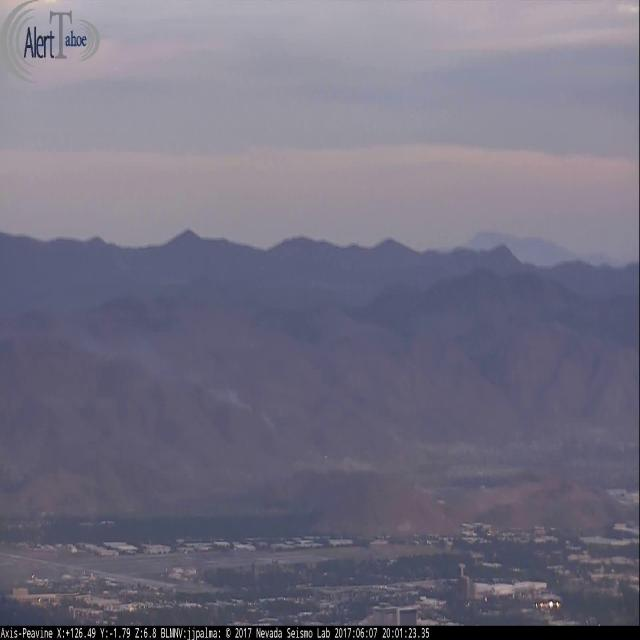smoke: (6, 316, 281, 439)
